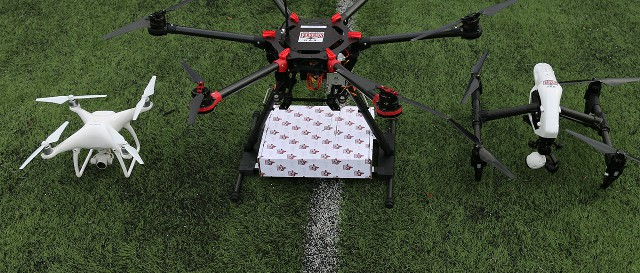maybay_khongnguoilai: (123, 2, 487, 141), (453, 57, 635, 184), (22, 86, 158, 179)
